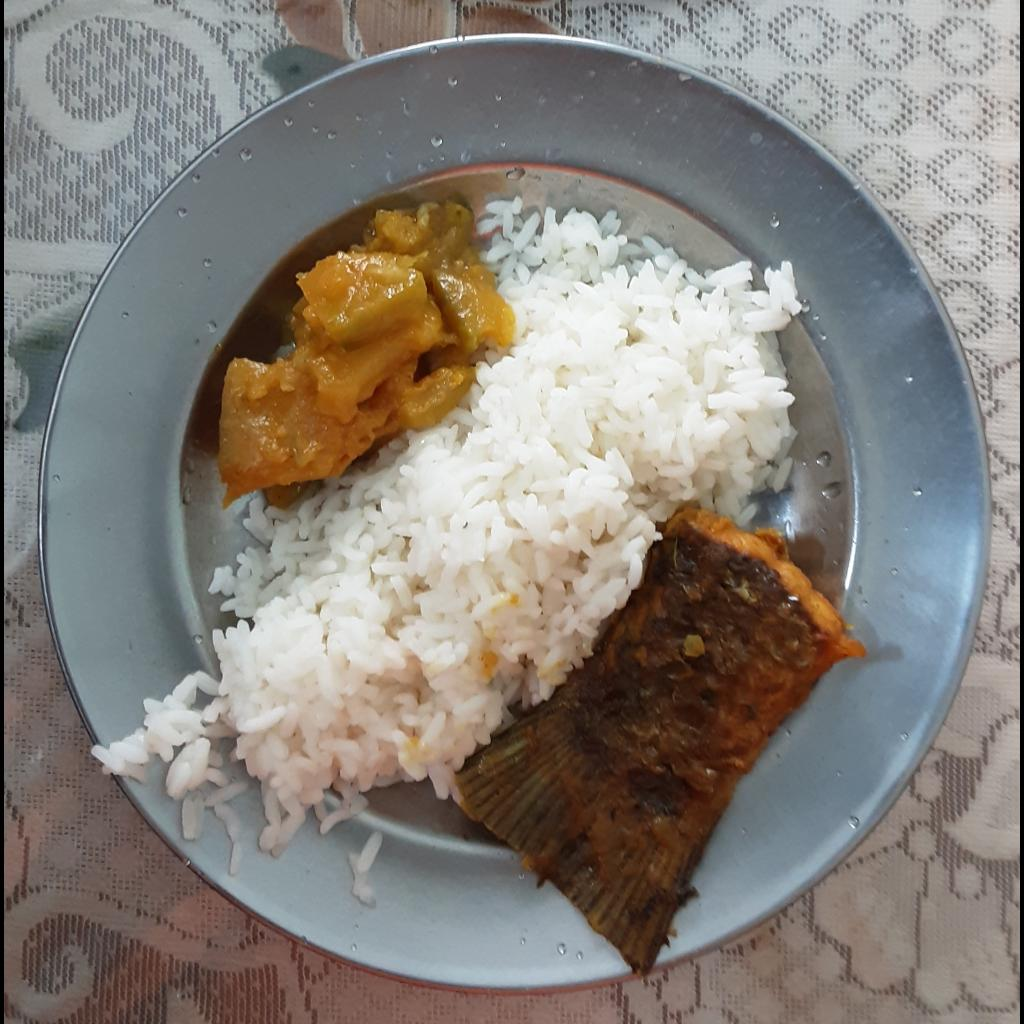fish: (457, 507, 872, 977)
kumra-vaji: (219, 201, 516, 518)
rice: (93, 198, 801, 878), (348, 828, 382, 907)
